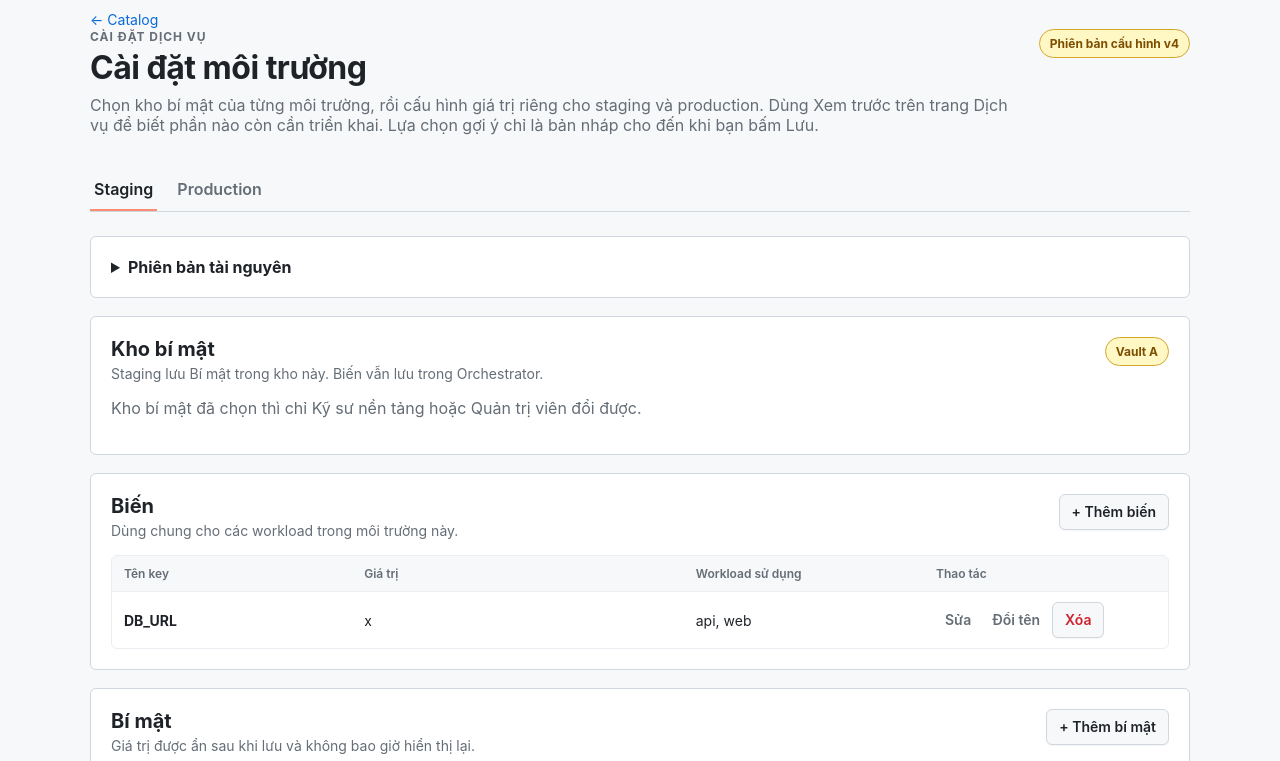
opt-in sends the same-snapshot guards, shows pending outcome and no rollout claim
Expected: the text "DB_URL" is shown, [124,612,177,628]
Click the button "Đổi tên" at (1016, 620), box [983,602,1049,638]
(page scrolled)
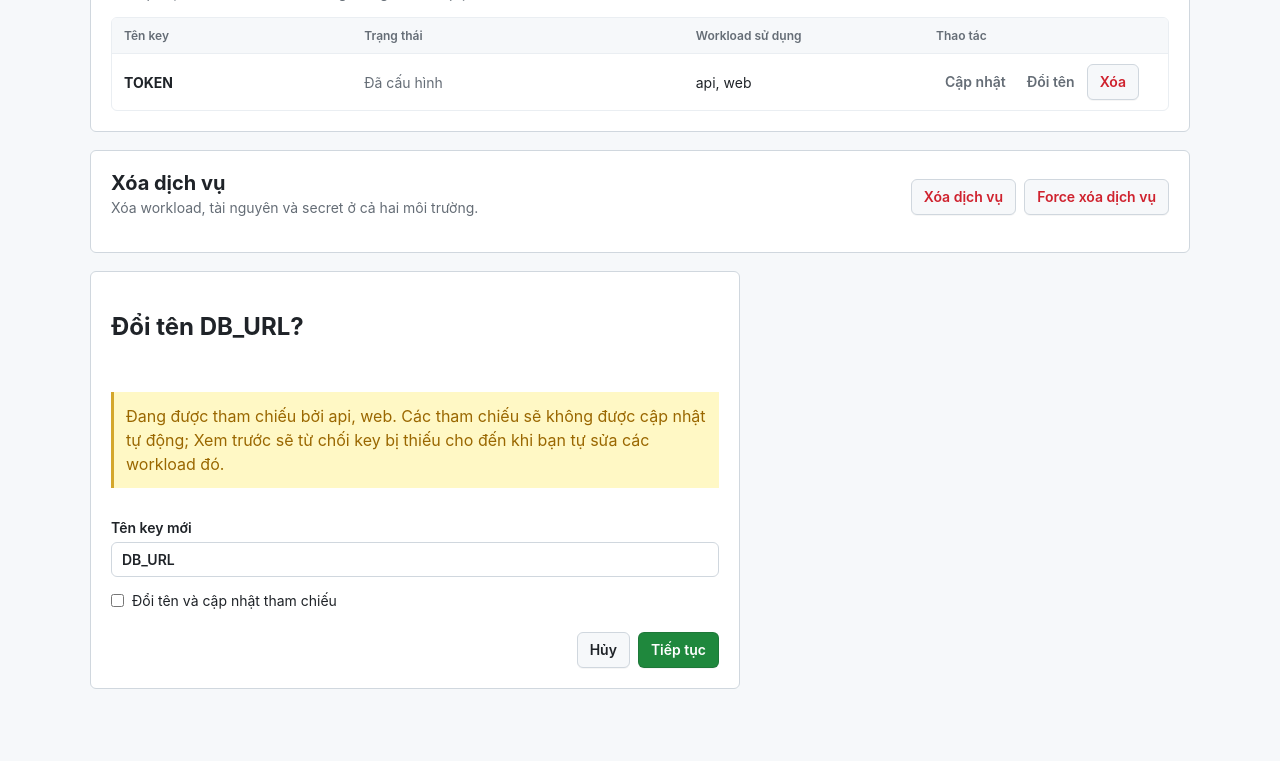
Replace the text in the field labelled "Tên key mới" with "DB_URL2" at (415, 559), box [111,542,719,577]
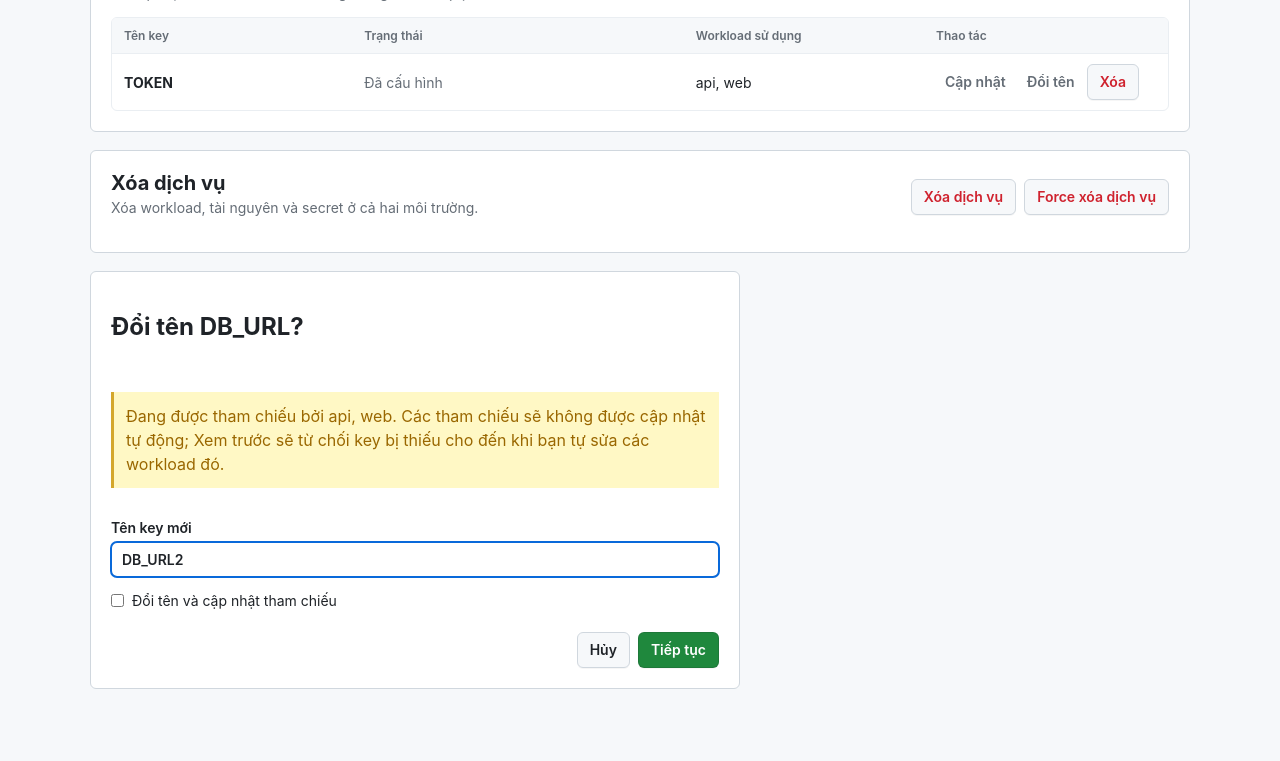
Click the checkbox labelled "Đổi tên và cập nhật tham chiếu" at (118, 600), box [111,594,124,607]
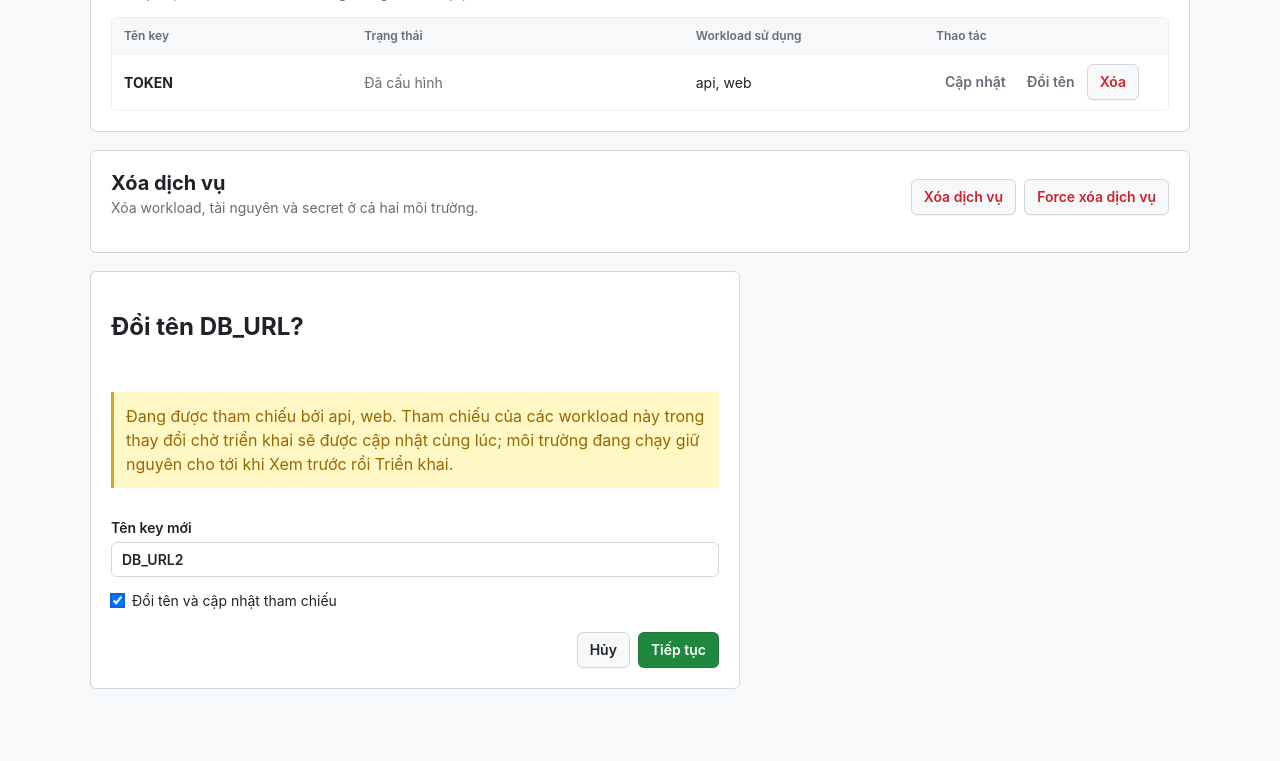
Expected: the text "cập nhật cùng lúc" is shown, [126,406,704,474]
Click the button "Tiếp tục" at (678, 650), box [638,632,719,668]
(page scrolled)
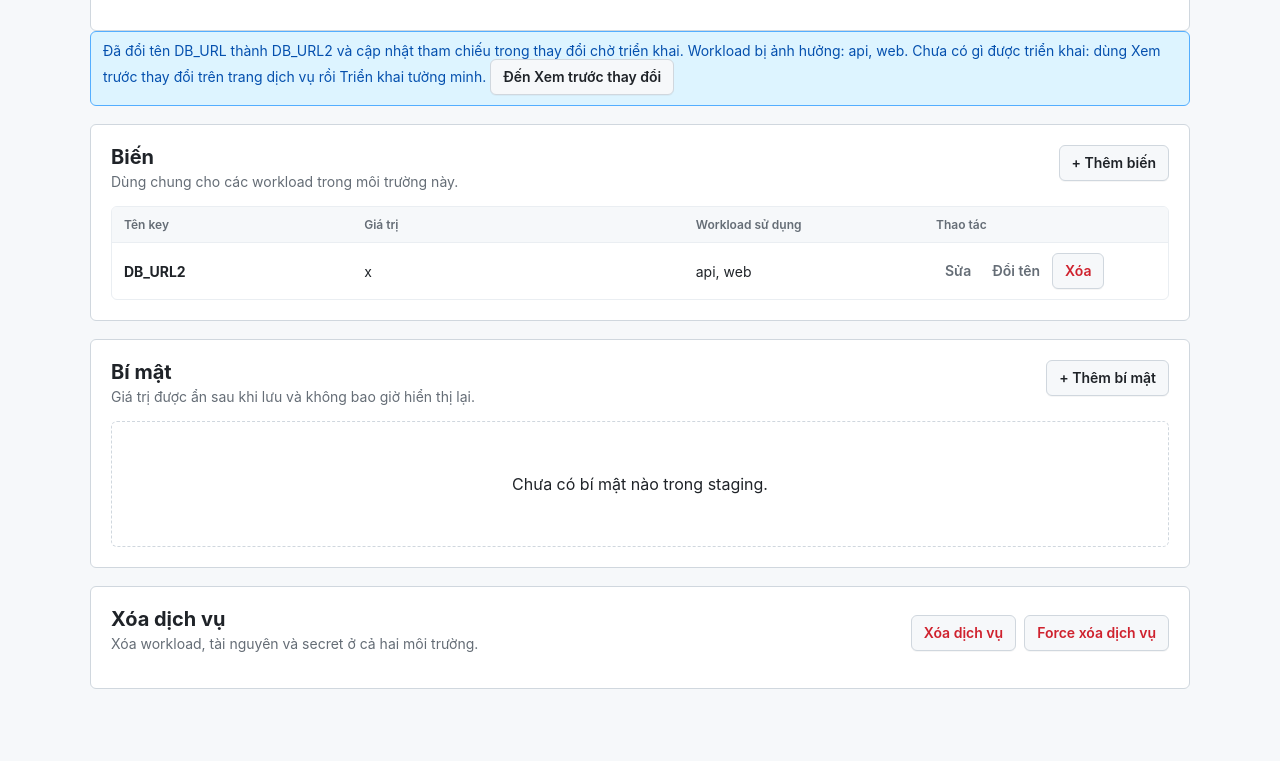
Expected: the text "Đã đổi tên DB_URL thành DB_URL2" shows "api, web", [684,42,908,59]
Expected: the text "Đã đổi tên DB_URL thành DB_URL2" shows "Chưa có gì được triển khai", [103,42,1161,85]
Expected: the dialog is gone
Click the button "Đổi tên" at (1016, 271), box [983,253,1049,289]
(page scrolled)
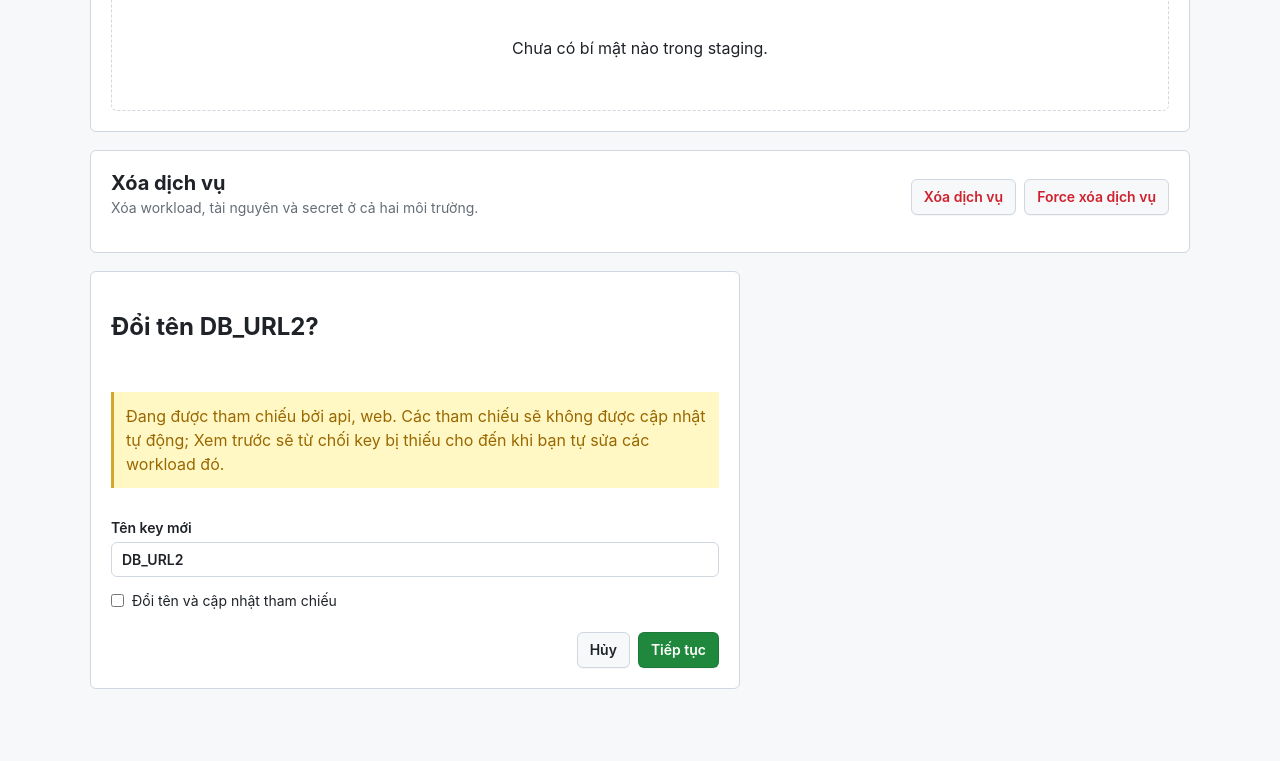
Expected: the checkbox labelled "Đổi tên và cập nhật tham chiếu" is not checked, [111,594,124,607]
